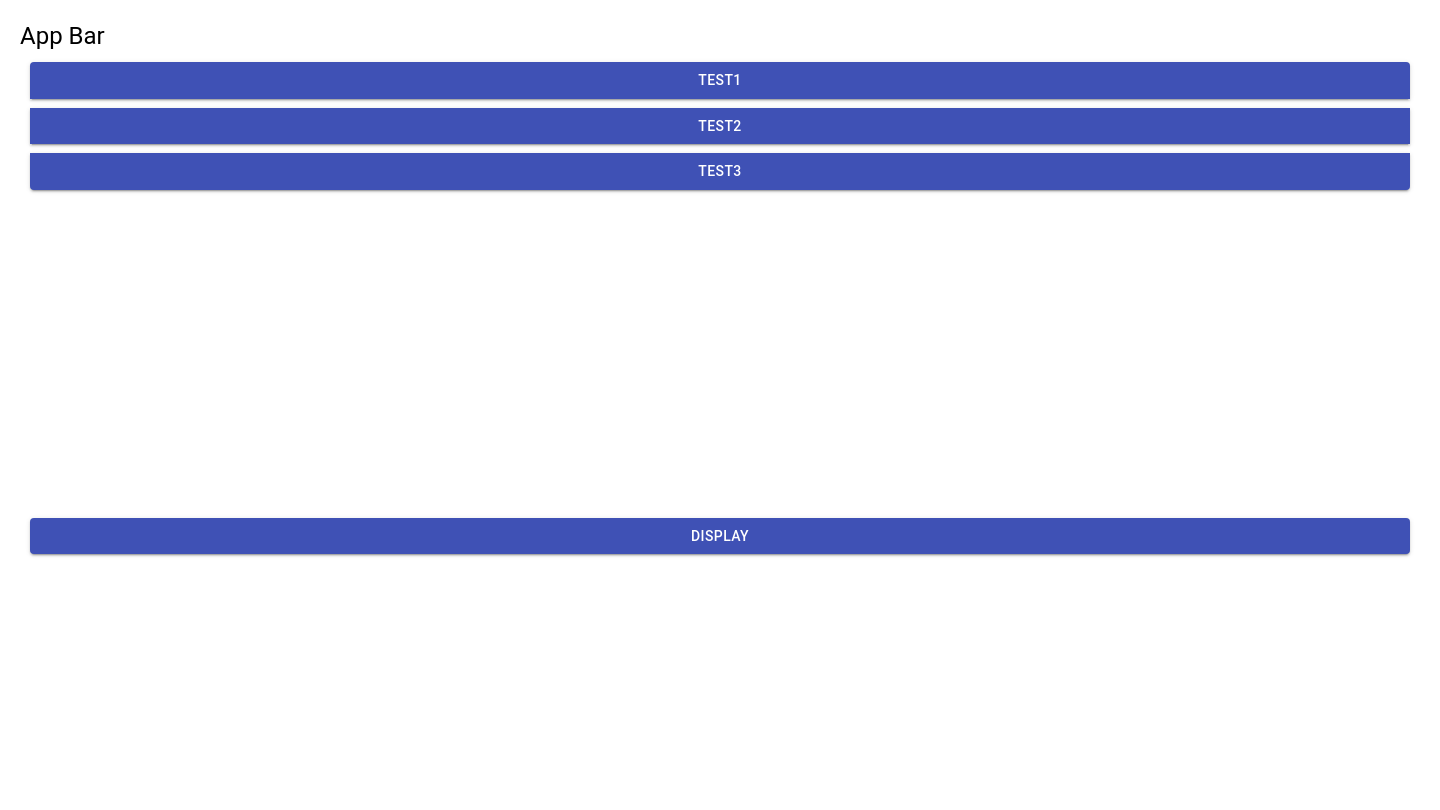
it: The button displays the accessibility modal › displays the button correctly
Click the button "Display" at (720, 536), box top-left (30, 518), bottom-right (1410, 554)
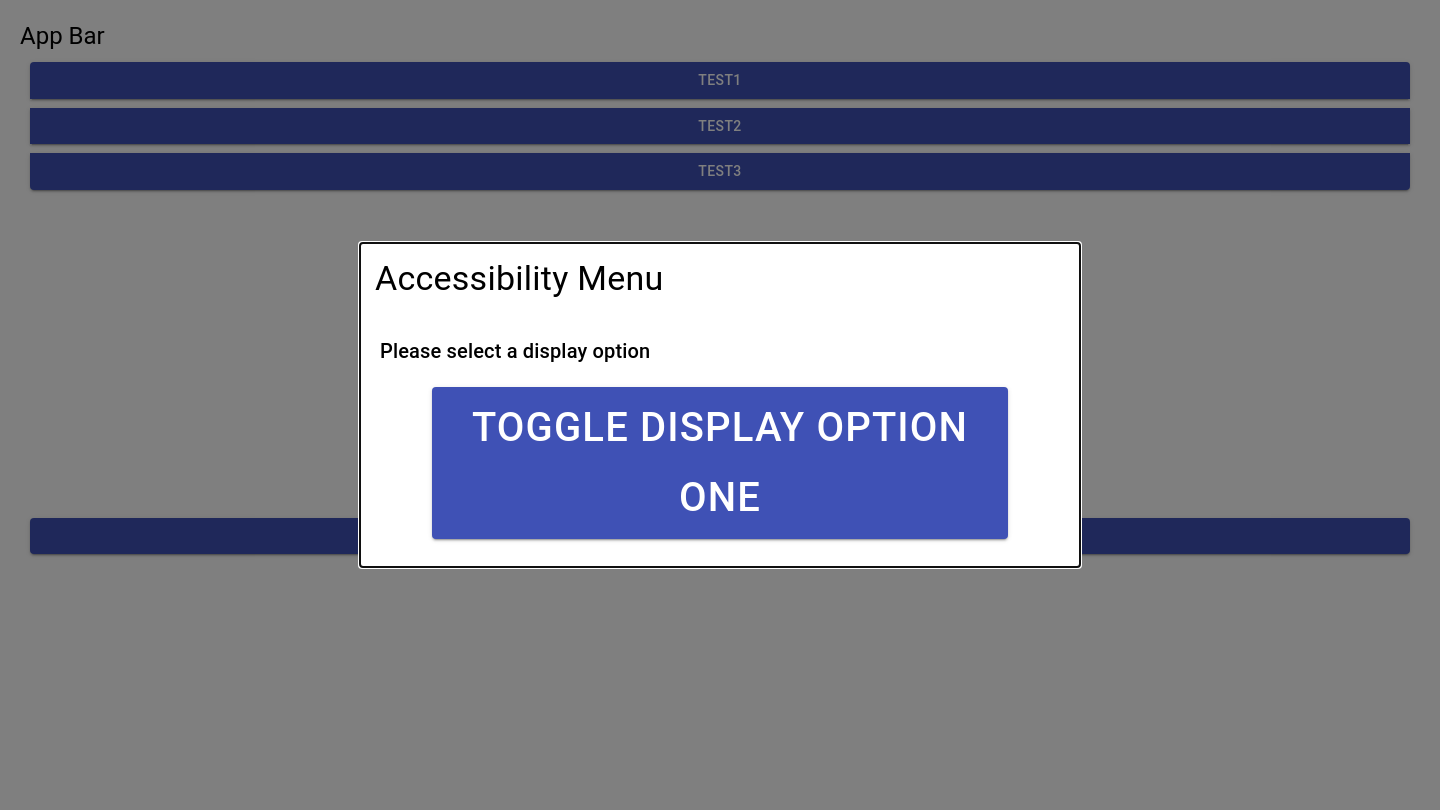
Expected: the number of elements with test id "accessibility-menu" is 1, top-left (360, 243), bottom-right (1080, 567)
